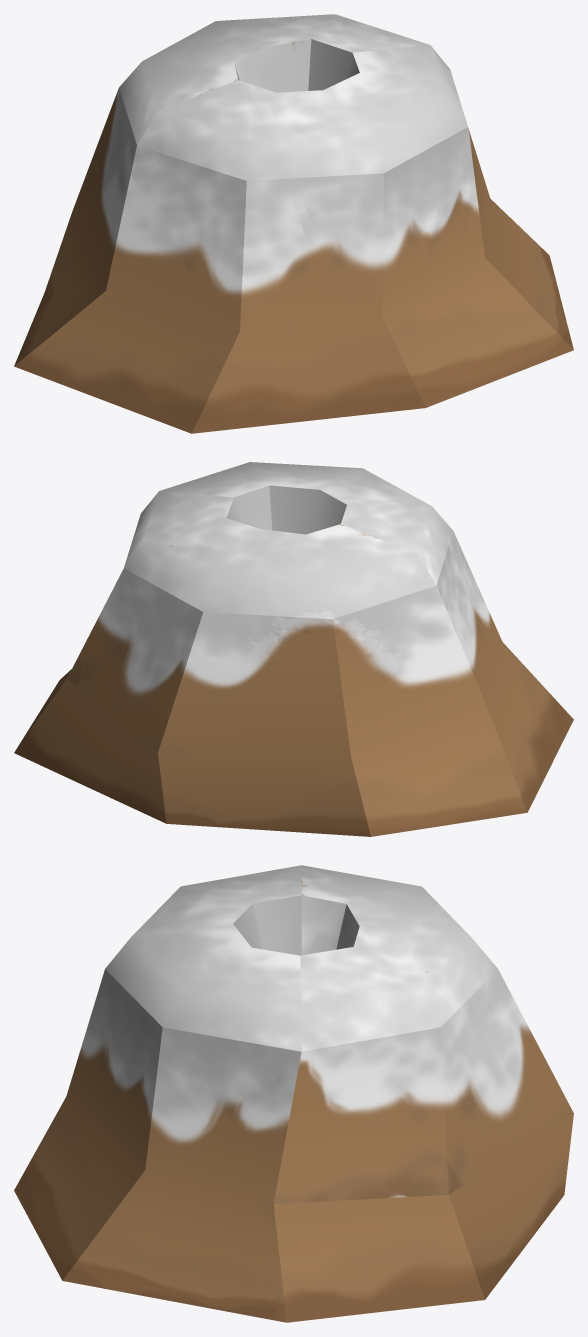
Rendered from Sweetroll.FBX.
3 renders of one model, top to bottom at view 1: azimuth 30°, elevation 25°; view 2: azimuth 150°, elevation 25°; view 3: azimuth 270°, elevation 25°, orthographic. The views are drawn at different scales.
Parts seen in each view (by area): view 1: pCylinder1; view 2: pCylinder1; view 3: pCylinder1.
Boxes of the visible parts, <box> form: pCylinder1: <box>14,14,573,433</box>; pCylinder1: <box>14,462,573,836</box>; pCylinder1: <box>14,865,573,1322</box>.
Size of the model in its own units: 1.13 by 0.5121 by 0.9775.
Materials: 1 (1 with a texture image).
